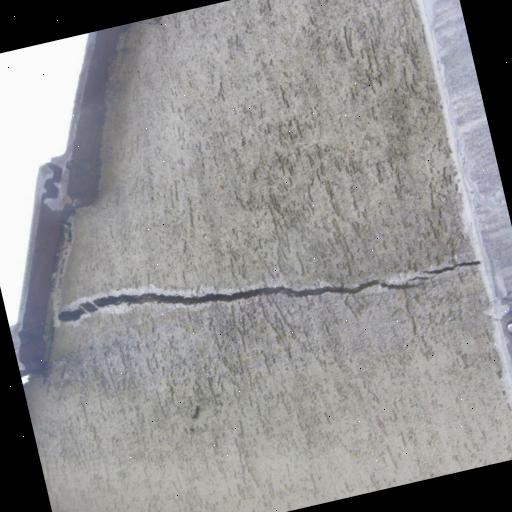spalling: (56, 246, 478, 330)
